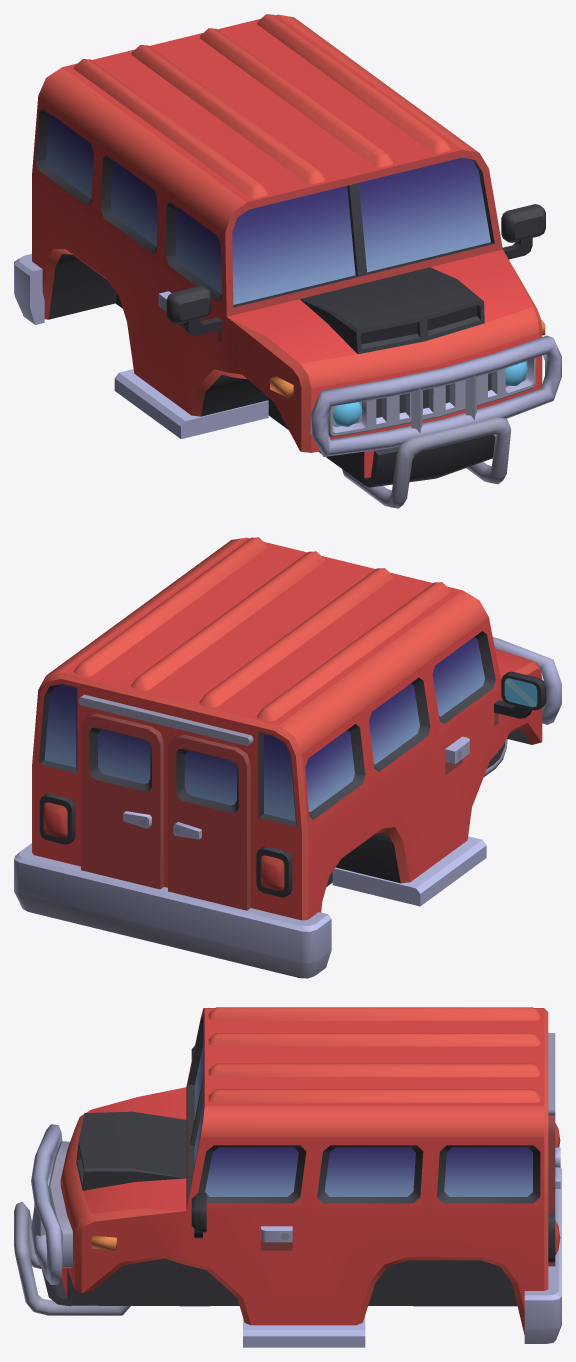
Rendered from HummerBus_Red.fbx.
3 renders of one model, top to bottom at view 1: azimuth 30°, elevation 25°; view 2: azimuth 150°, elevation 25°; view 3: azimuth 270°, elevation 25°, orthographic. The views are drawn at different scales.
Parts seen in each view (by area): view 1: Car_3_Enemy; view 2: Car_3_Enemy; view 3: Car_3_Enemy.
Part boxes in pixels (bbox=[...]): Car_3_Enemy: bbox=[14, 14, 561, 508]; Car_3_Enemy: bbox=[14, 537, 561, 978]; Car_3_Enemy: bbox=[14, 1007, 561, 1347].
Bounding box in the file's own units: 3.28 × 2.22 × 4.53.
